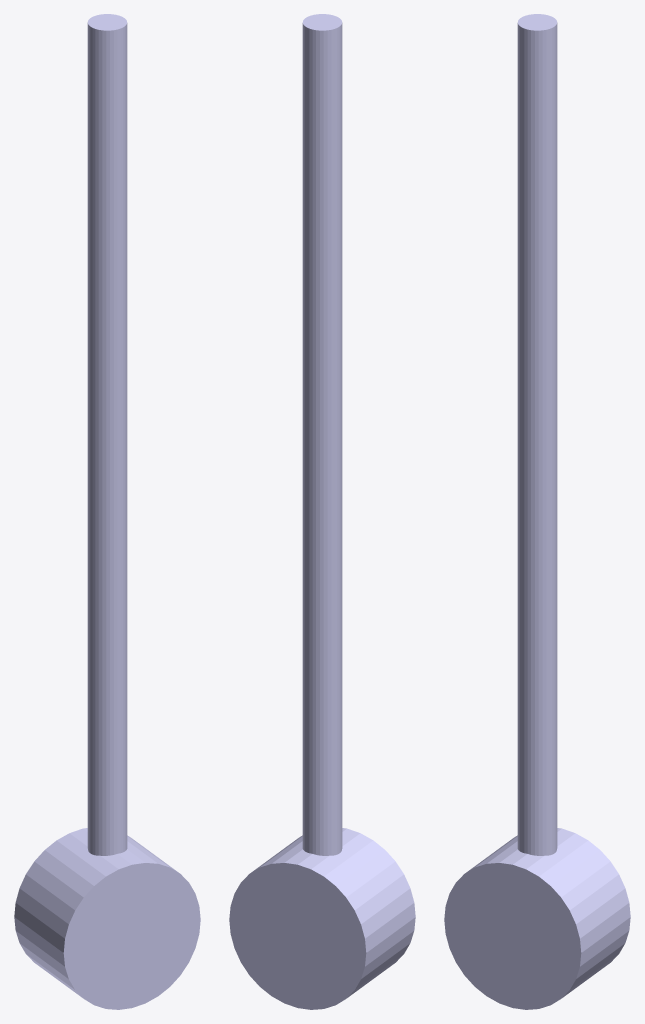
Rendered from liever.obj.
The picture shows the model from 3 angles, left to right: view 1: azimuth 30°, elevation 25°; view 2: azimuth 150°, elevation 25°; view 3: azimuth 330°, elevation 25°; orthographic projection.
Bounding box in the file's own units: 0.04 × 0.27 × 0.025.
